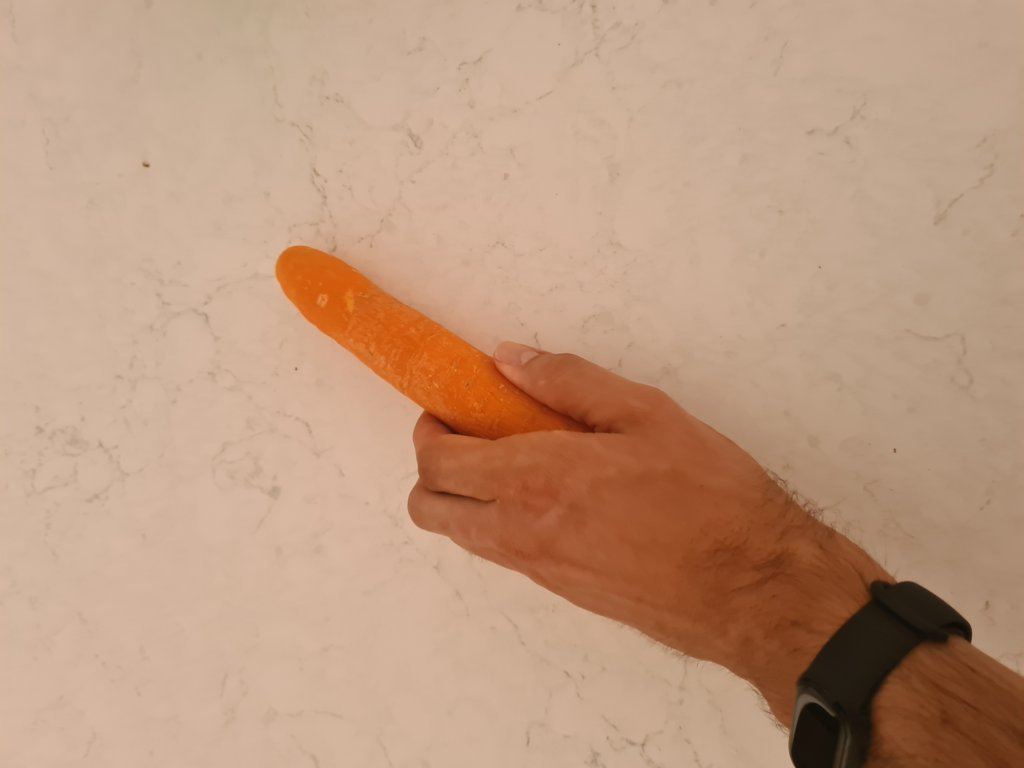carrot: (277, 244, 602, 440)
